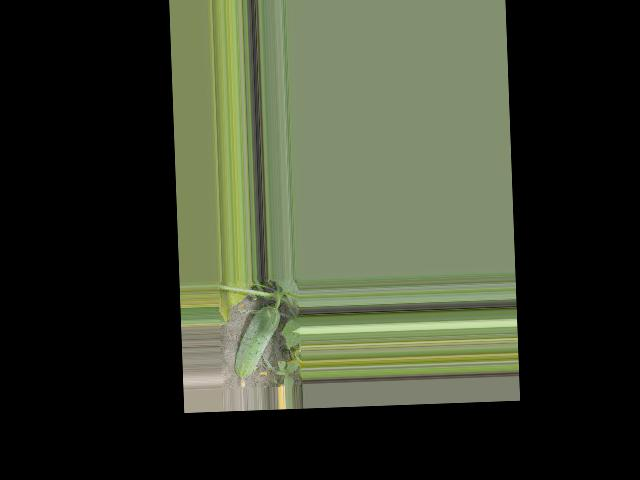cucumber: (231, 306, 282, 389)
